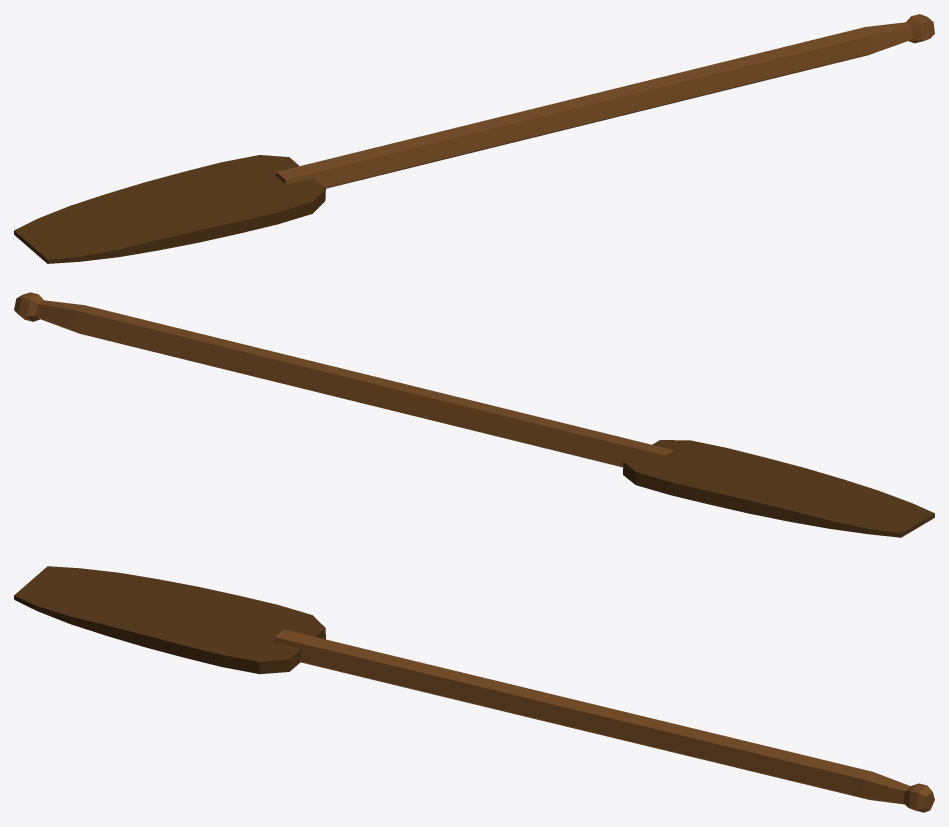
The model's file is F_Oar_B.fbx.
3 views of the same model, one above another, from view 1: azimuth 30°, elevation 25°; view 2: azimuth 150°, elevation 25°; view 3: azimuth 330°, elevation 25° (orthographic).
Parts seen in each view (by area): view 1: F_Oar_B; view 2: F_Oar_B; view 3: F_Oar_B.
Boxes of the visible parts, <box> form: F_Oar_B: <box>14,14,934,263</box>; F_Oar_B: <box>14,292,934,537</box>; F_Oar_B: <box>14,566,934,812</box>.
Bounding box in the file's own units: 263 × 7.54 × 29.29.
